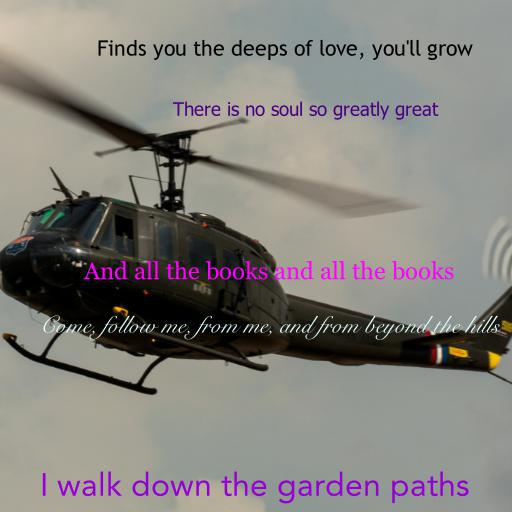Avenir: (40, 471, 470, 504)
Georgia: (84, 261, 454, 280)
Snell Roundhand: (40, 315, 500, 340)
Tahoma: (172, 101, 438, 120)
Trebuchet MS: (97, 39, 473, 61)
